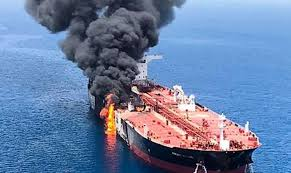tau_dansu: (87, 48, 256, 173)
